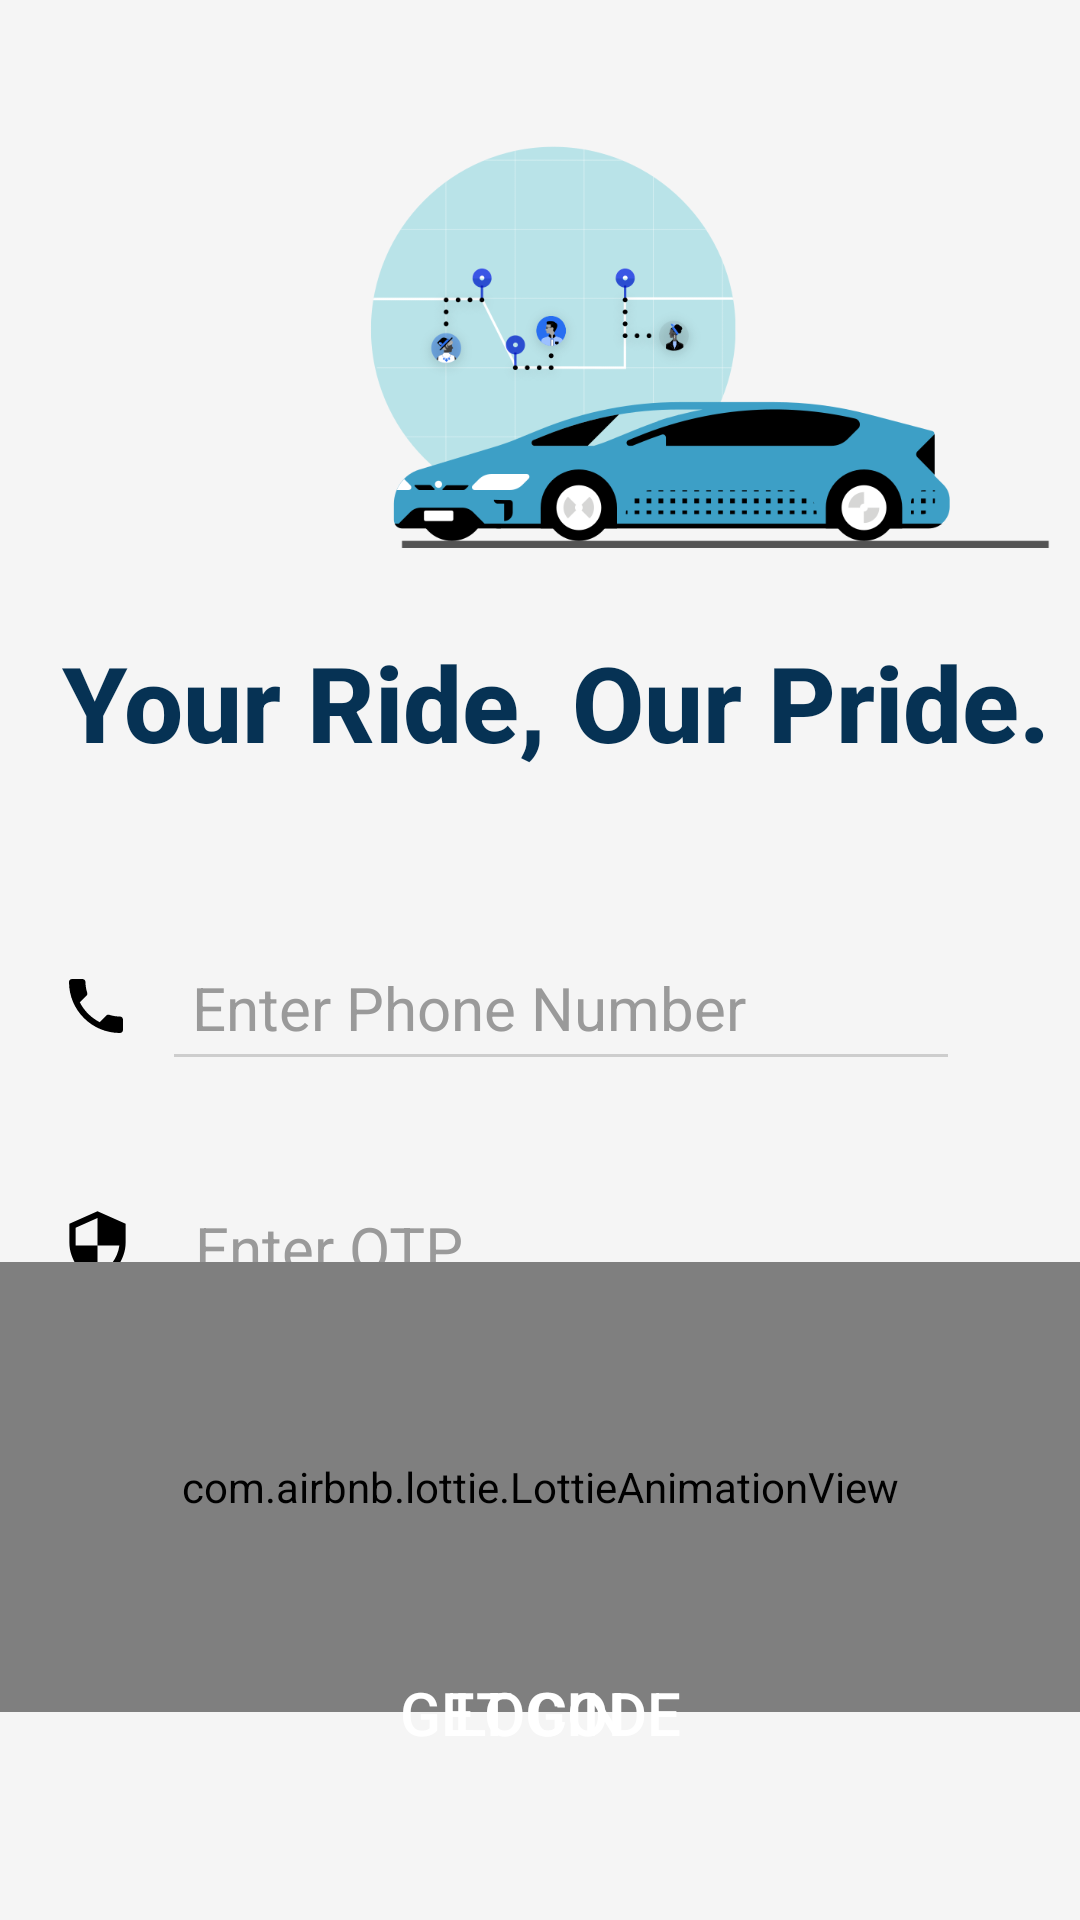

Where to tap for icons on this 1080w x 1920h app screen, as (x=x, y=y):
call: (x=96, y=1006)
